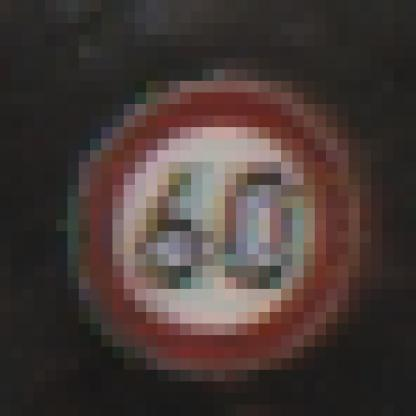Speed Limit -60-: (89, 45, 377, 383)
